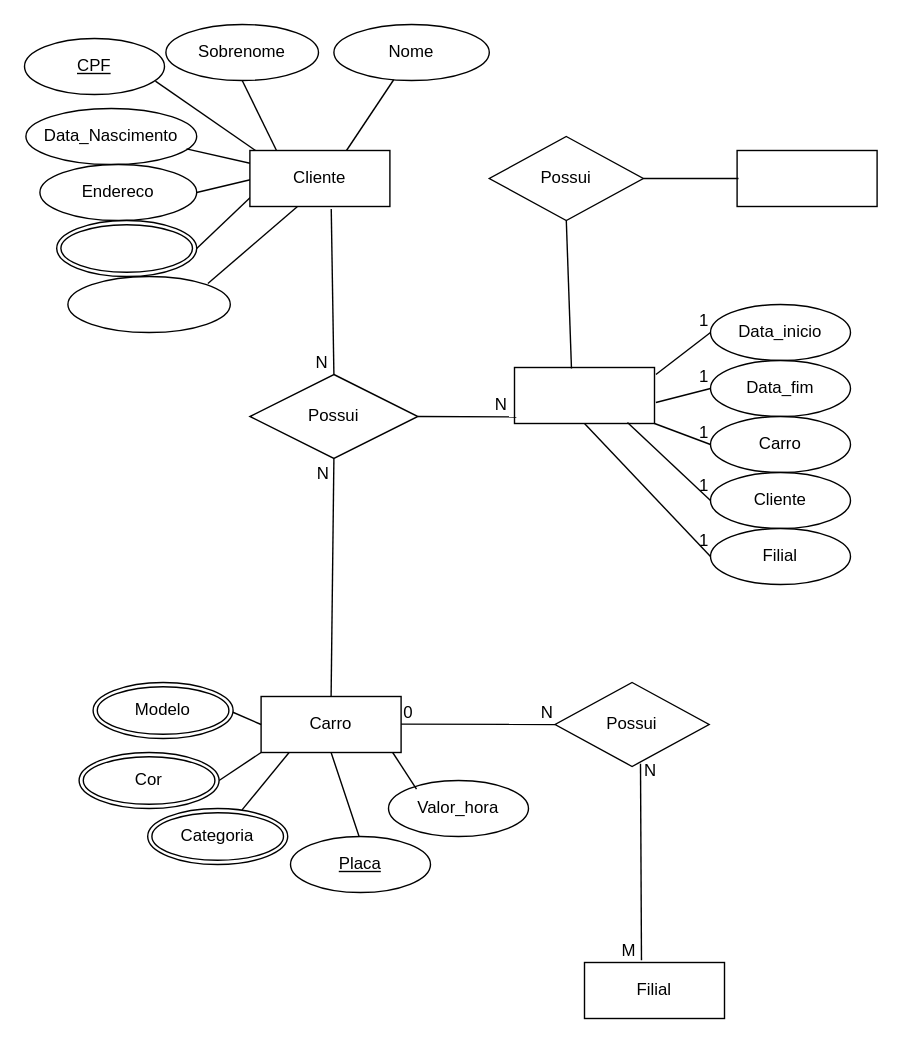
This 902x1043 diagram has some shape labels left out. Here are the shapes that lost their labels. From the top down, the centre of each, then its label:
At (806,177): "Pagamento".
At (126,247): "Telefone".
At (148,303): "Email".
At (583,395): "Locacao".
